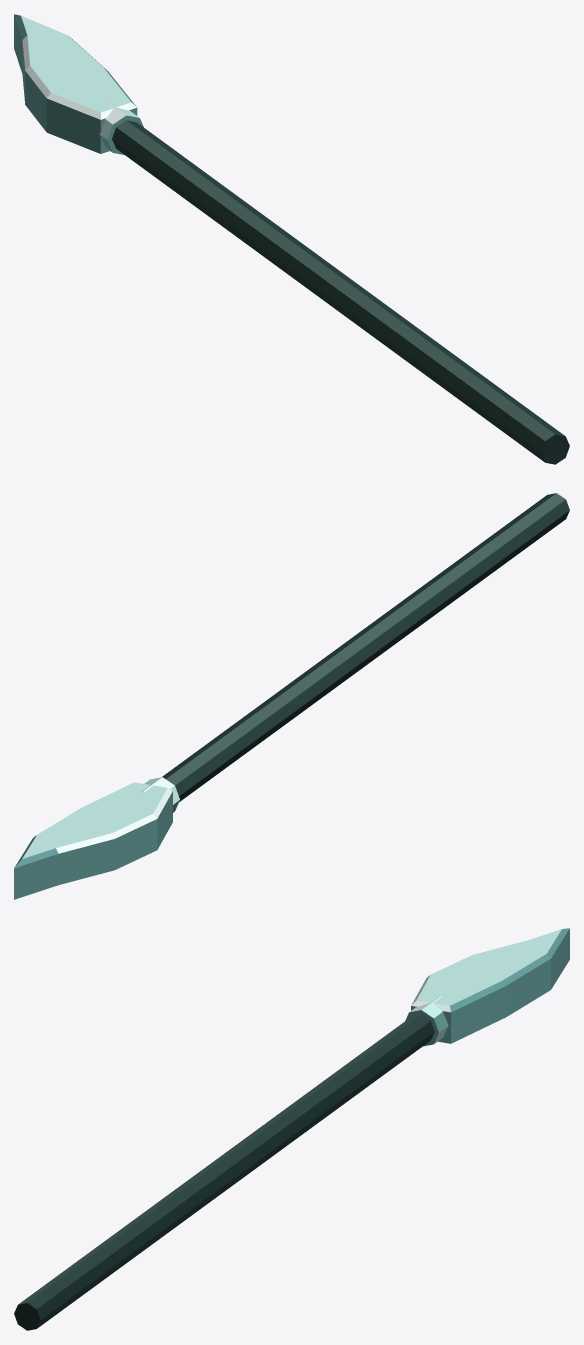
Rendered from dragon_spear.fbx.
3 renders of one model, top to bottom at view 1: azimuth 30°, elevation 25°; view 2: azimuth 150°, elevation 25°; view 3: azimuth 330°, elevation 25°, orthographic. The views are drawn at different scales.
Visible parts, largest first — view 1: dragon_spear; view 2: dragon_spear; view 3: dragon_spear.
Boxes of the visible parts, x1,y1,x2,y2 form: dragon_spear: [14, 14, 569, 464]; dragon_spear: [14, 493, 569, 899]; dragon_spear: [14, 928, 569, 1330].
Size of the model in its own units: 0.26 by 0.124 by 3.18.
1 material, 1 textured.
